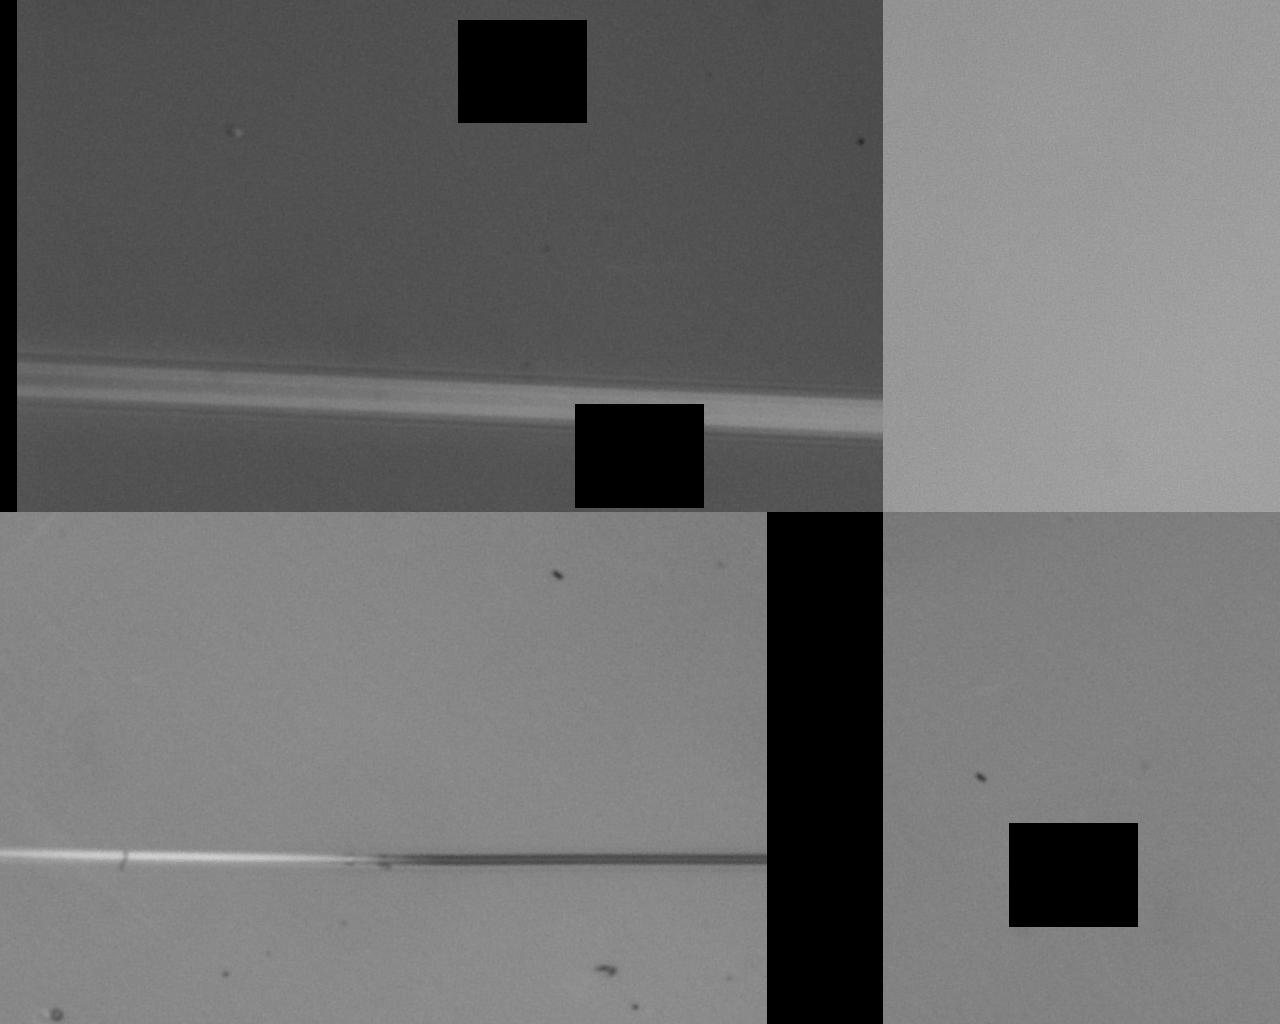fiber: (636, 0, 1274, 573), (689, 573, 739, 1024)
